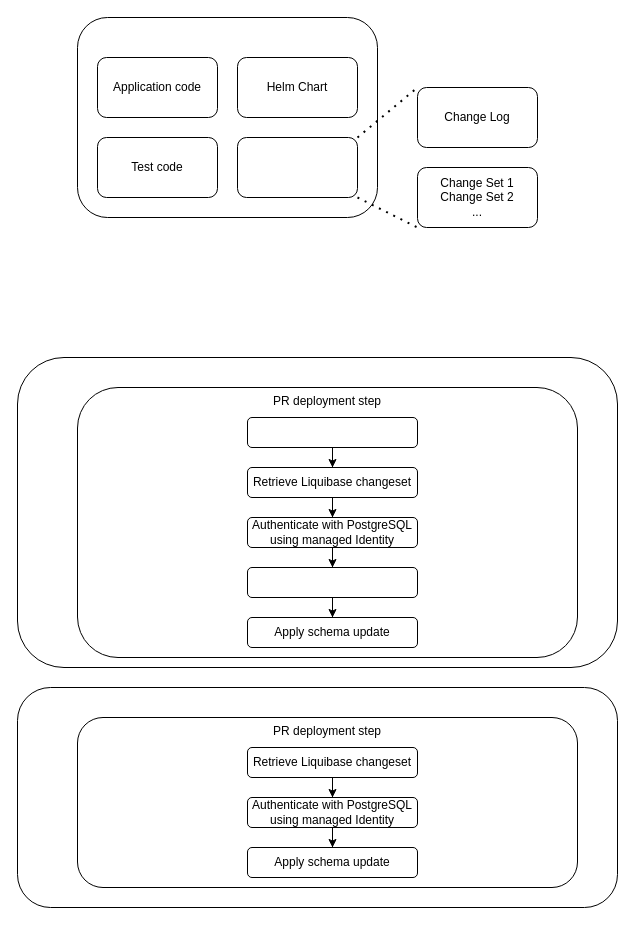
This 635x925 diagram has some shape labels left out. The box of each missing label's shape, as (x1, y1, x2, y2) in pixels:
CI Pipeline: (16, 356, 618, 668)
Create Kubernetes namespace suffixed with PR: (246, 416, 418, 448)
Liquibase: (236, 136, 358, 198)
Microservice repository: (76, 16, 378, 218)
Recreate database schema with current PR commit: (246, 566, 418, 598)
Release Pipeline: (16, 686, 618, 908)
